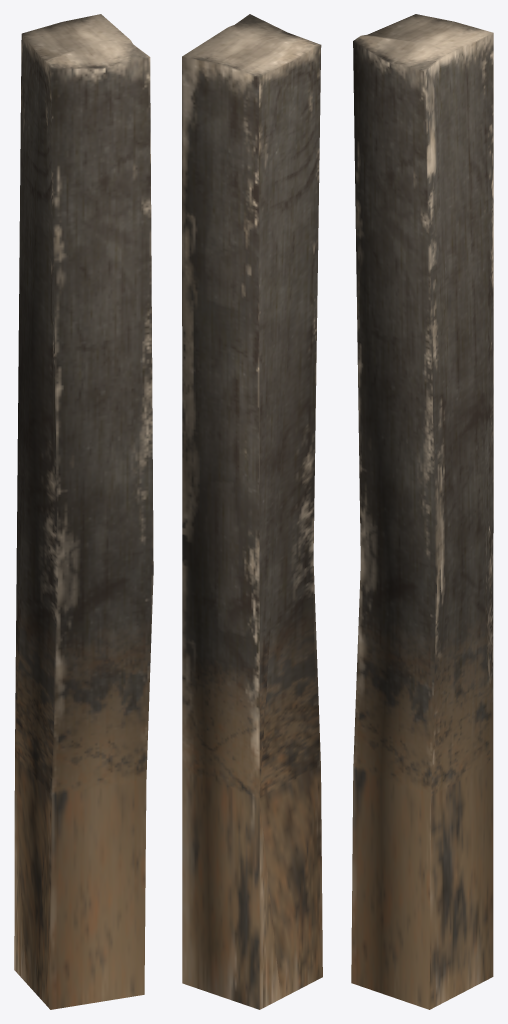
Rendered from fenceSingle.fbx.
3 renders of one model, left to right at view 1: azimuth 30°, elevation 25°; view 2: azimuth 150°, elevation 25°; view 3: azimuth 330°, elevation 25°, orthographic.
Visible parts, largest first — view 1: fenceShort_lod0; view 2: fenceShort_lod0; view 3: fenceShort_lod0.
Part boxes in pixels (x1,y1,x2,y2): fenceShort_lod0: (14, 14, 153, 1009); fenceShort_lod0: (182, 14, 322, 1009); fenceShort_lod0: (351, 14, 493, 1009).
Size of the model in its own units: 20.42 by 177 by 21.42.
